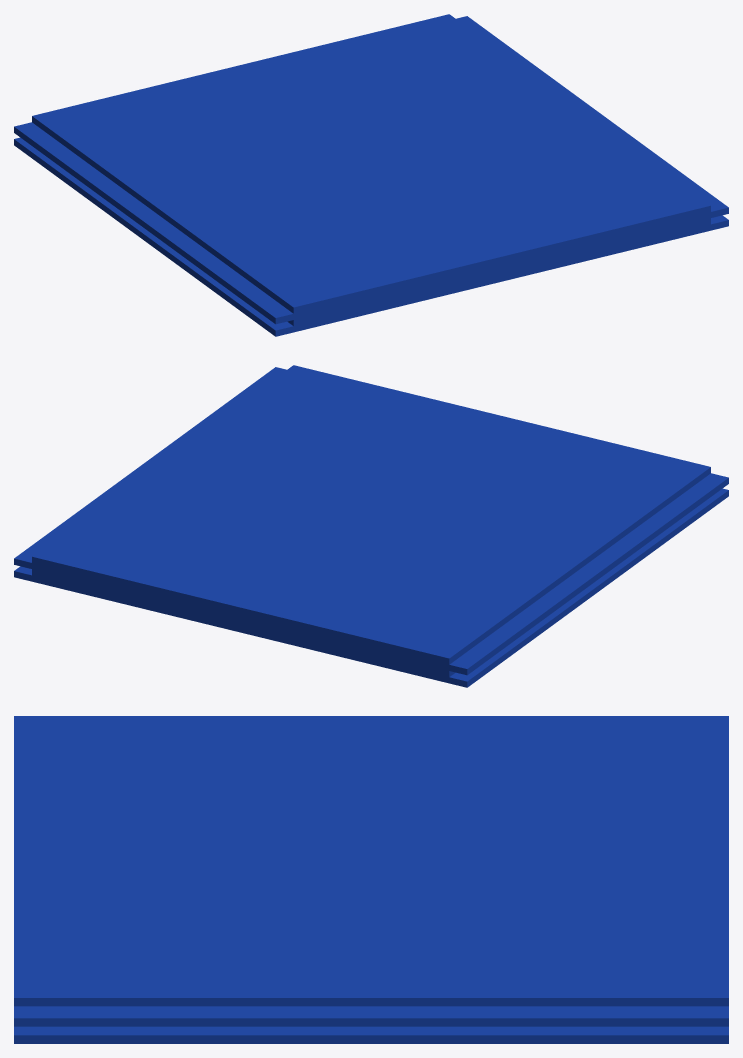
The model's file is sheet_lycra.glb.
3 renders of one model, top to bottom at view 1: azimuth 30°, elevation 25°; view 2: azimuth 150°, elevation 25°; view 3: azimuth 270°, elevation 25°, orthographic. The views are drawn at different scales.
Parts seen in each view (by area): view 1: sheet_lycra:compound; view 2: sheet_lycra:compound; view 3: sheet_lycra:compound.
Boxes of the visible parts, box(x1,y1,x2,y2) form: sheet_lycra:compound: box(14, 14, 728, 336); sheet_lycra:compound: box(14, 365, 728, 687); sheet_lycra:compound: box(14, 716, 728, 1043).
Size of the model in its own units: 0.152 by 0.008 by 0.152.
